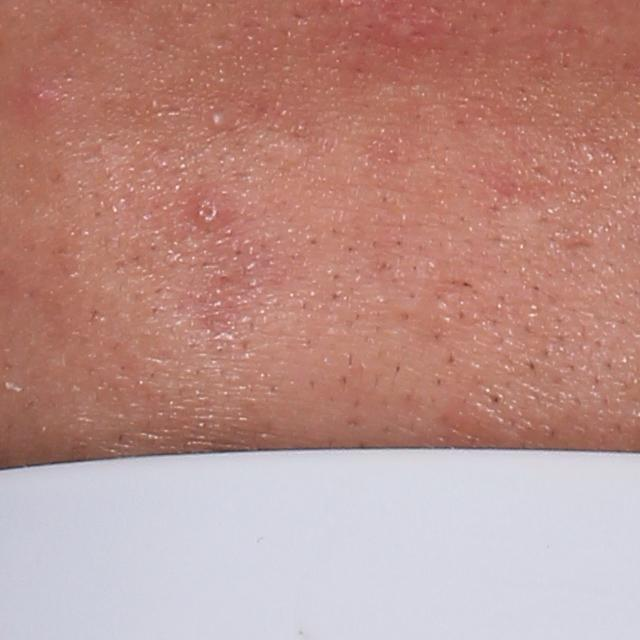atrophic_scar: (559, 234, 599, 253)
papule: (9, 67, 72, 123)
pustule: (205, 103, 233, 135)
